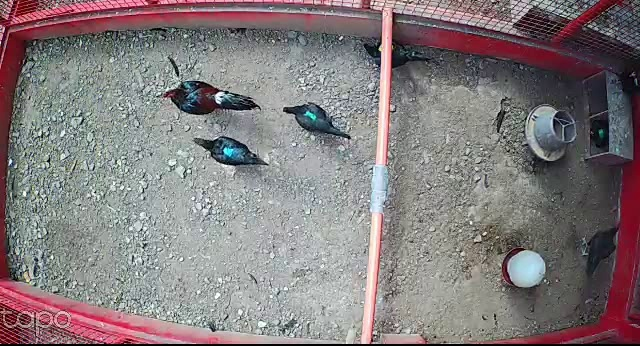Chicken: (279, 99, 354, 147), (191, 132, 271, 168), (577, 219, 622, 278), (360, 37, 432, 70)
Drinker: (500, 246, 548, 290)
Feeder: (524, 103, 580, 163)
Rooster: (160, 78, 262, 119)
Saddle_Color_Blue: (223, 147, 236, 157)
